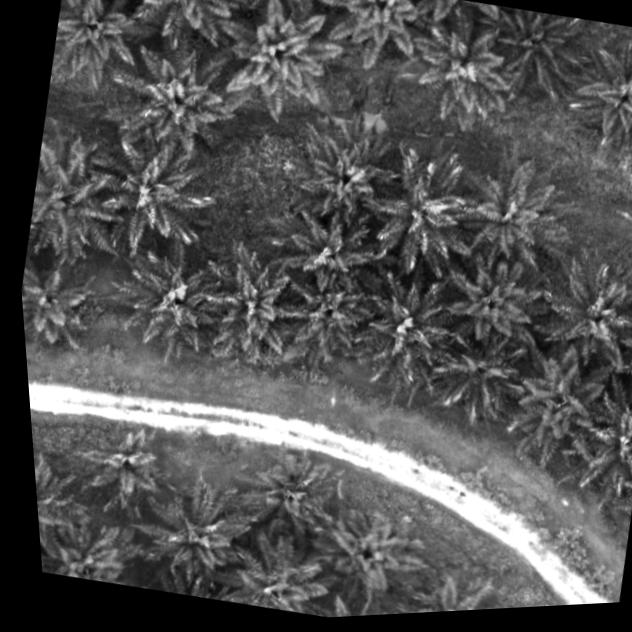oilpalm: (111, 37, 234, 167), (89, 135, 217, 258), (395, 1, 515, 132), (131, 473, 255, 588), (218, 0, 343, 113), (500, 336, 614, 455), (361, 148, 476, 264), (418, 312, 530, 429), (17, 142, 118, 269), (187, 241, 302, 352), (111, 245, 217, 364), (456, 156, 566, 268), (309, 496, 422, 602), (281, 123, 391, 228), (440, 248, 548, 348), (534, 252, 632, 362), (355, 276, 457, 381), (214, 531, 328, 620), (272, 203, 381, 293), (19, 254, 106, 365), (44, 0, 150, 91), (277, 266, 376, 358), (74, 417, 170, 509), (485, 2, 583, 88), (560, 44, 632, 159), (235, 443, 326, 532), (314, 0, 428, 67), (130, 0, 246, 52), (33, 448, 79, 560), (402, 571, 492, 613)
